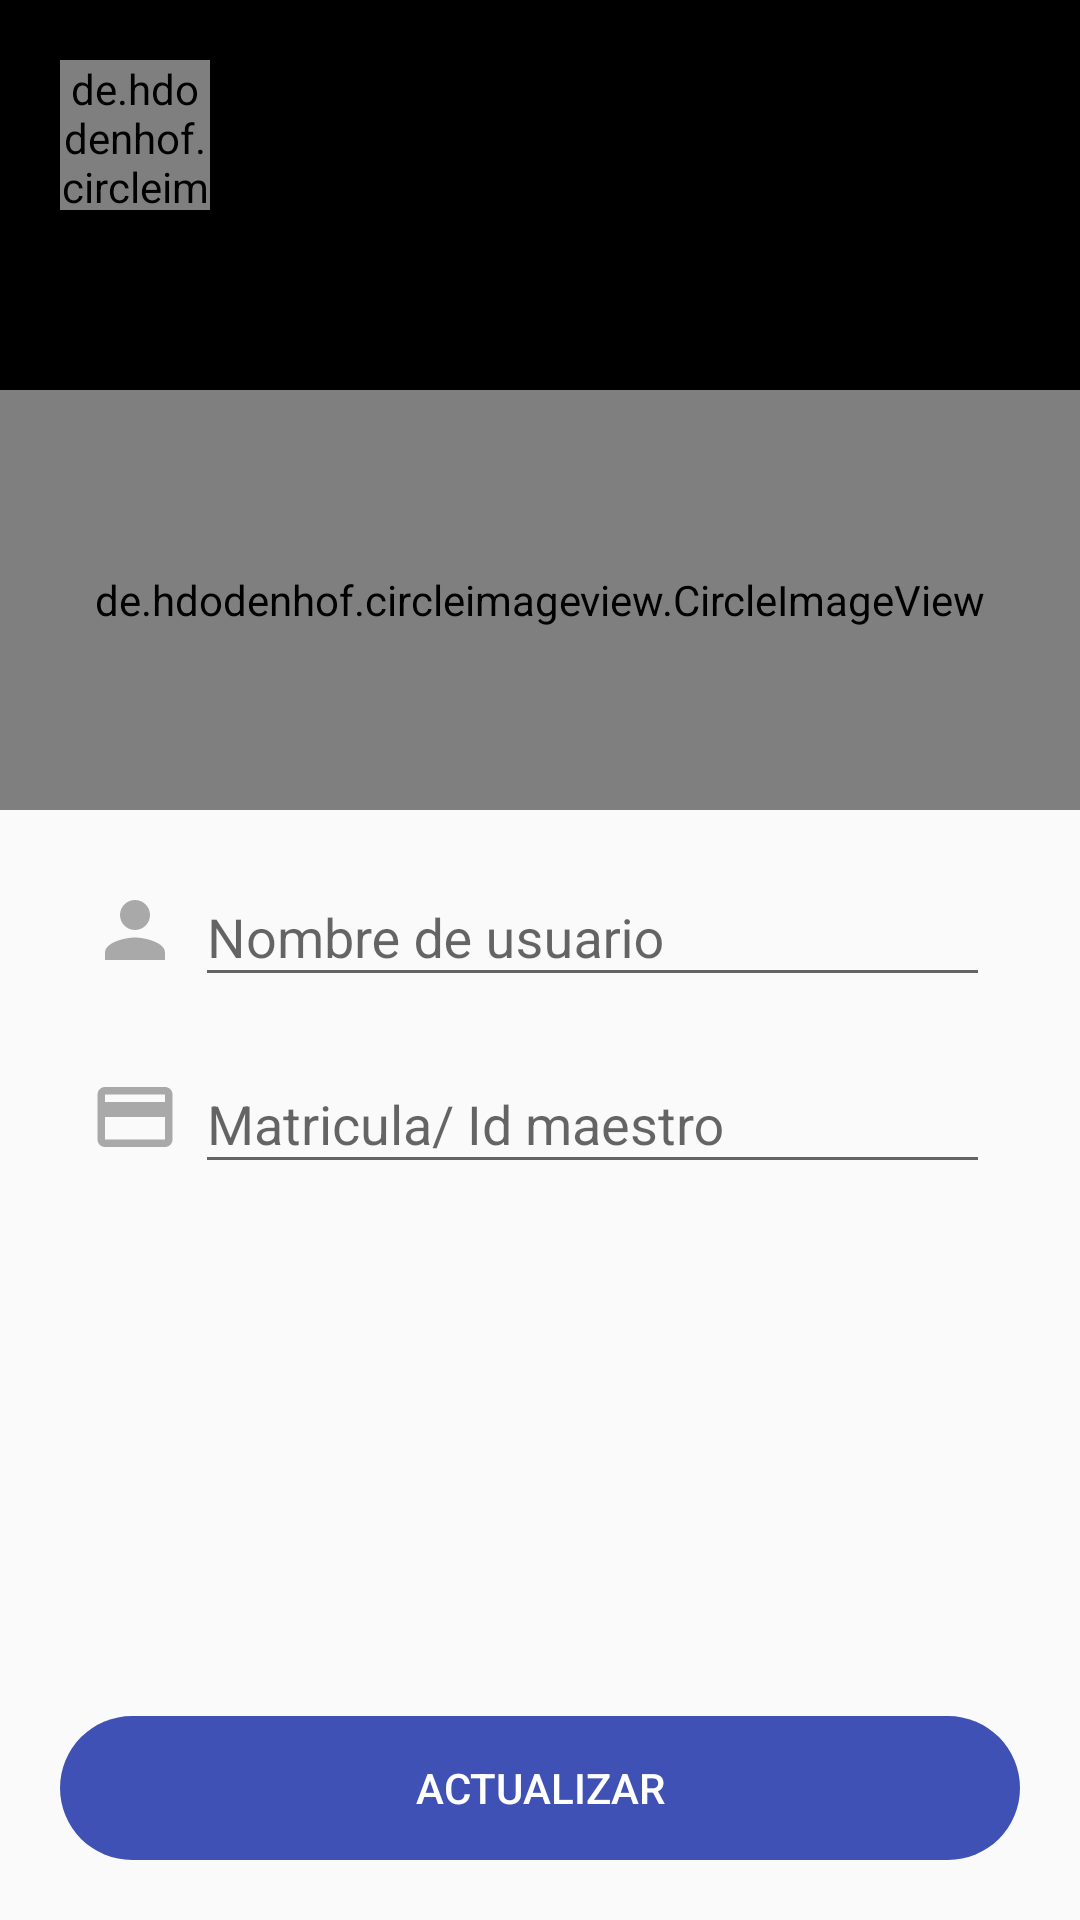

Icon bounding boxes for this 1080px x 1920px phone screenshot, format [x1,y1,x2,y2]:
credit card: [97,1087,173,1147]
person: [105,900,165,960]
